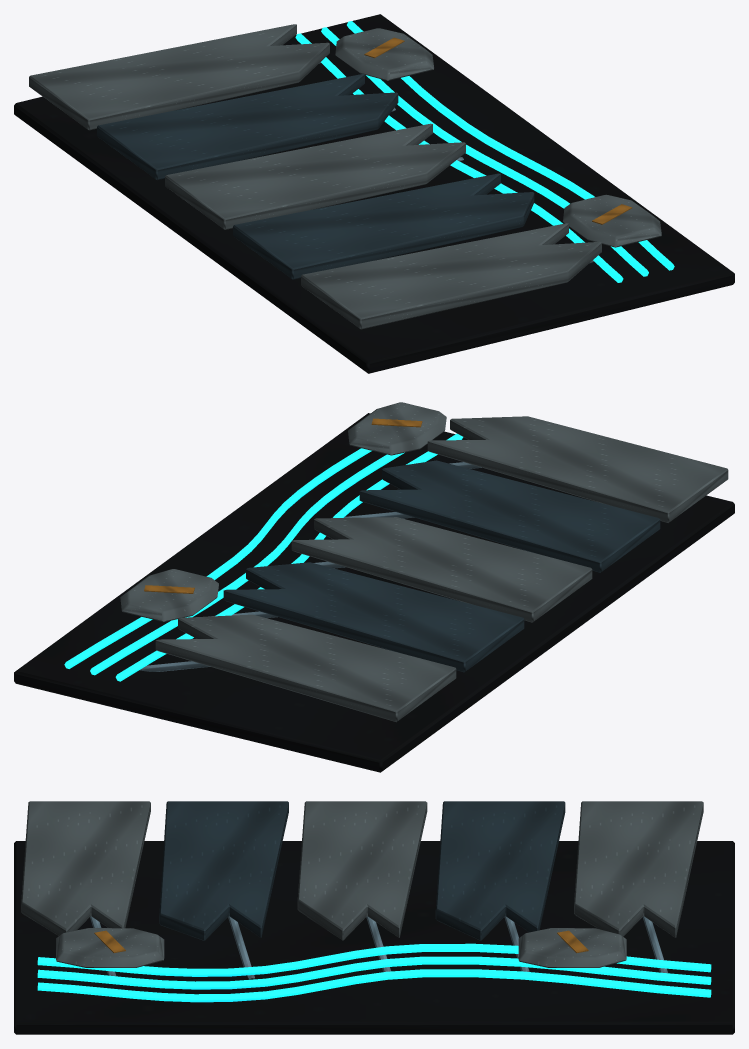
Rendered from Broken_Edge_V3_0.fbx.
The picture shows the model from 3 angles, top to bottom: view 1: azimuth 30°, elevation 25°; view 2: azimuth 150°, elevation 25°; view 3: azimuth 270°, elevation 25°; orthographic projection.
Visible parts, largest first — view 1: Broken_Edge_V3_0; view 2: Broken_Edge_V3_0; view 3: Broken_Edge_V3_0.
Part boxes in pixels (left/top/right/bottom): Broken_Edge_V3_0: left=14, top=14, right=734, bottom=373; Broken_Edge_V3_0: left=14, top=402, right=734, bottom=772; Broken_Edge_V3_0: left=14, top=801, right=734, bottom=1034.
Bounding box in the file's own units: 3.6 × 0.516 × 6.
